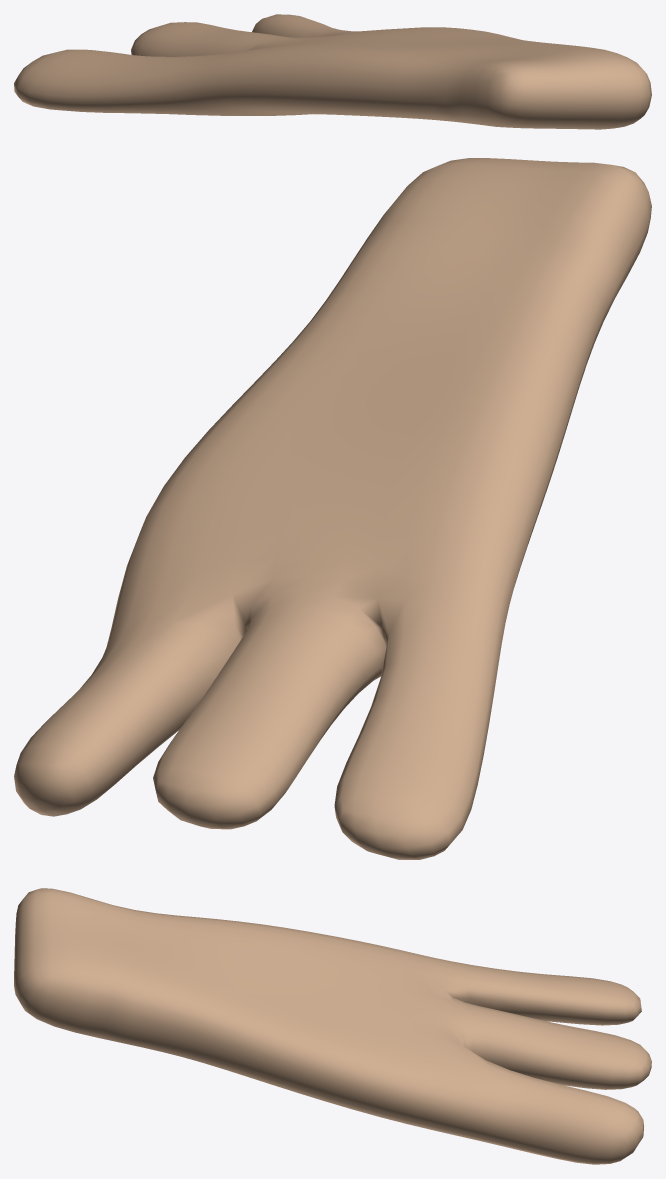
The picture shows the model from 3 angles, top to bottom: view 1: azimuth 30°, elevation 25°; view 2: azimuth 150°, elevation 25°; view 3: azimuth 270°, elevation 25°; orthographic projection. The views are drawn at different scales.
Visible parts, largest first — view 1: 右侧指伸肌与示指伸肌腱鞘; view 2: 右侧指伸肌与示指伸肌腱鞘; view 3: 右侧指伸肌与示指伸肌腱鞘.
Boxes of the visible parts, x1=… form: 右侧指伸肌与示指伸肌腱鞘: x1=14, y1=14, x2=651, y2=129; 右侧指伸肌与示指伸肌腱鞘: x1=14, y1=158, x2=651, y2=859; 右侧指伸肌与示指伸肌腱鞘: x1=14, y1=888, x2=651, y2=1164.
Bounding box in the file's own units: 0.0402 × 0.0284 × 0.0714.
